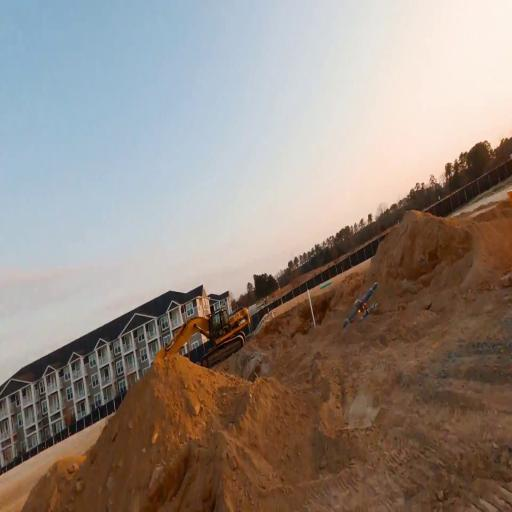uav: (337, 278, 382, 334)
